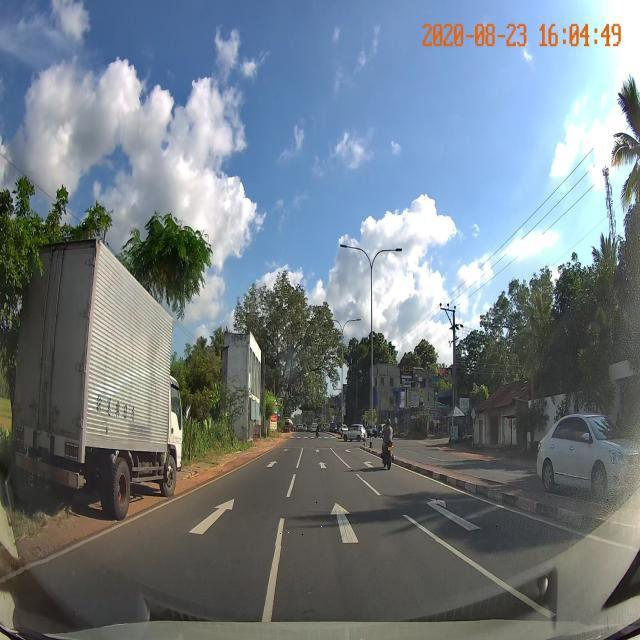forward: (274, 499, 439, 546)
right: (390, 489, 528, 540)
